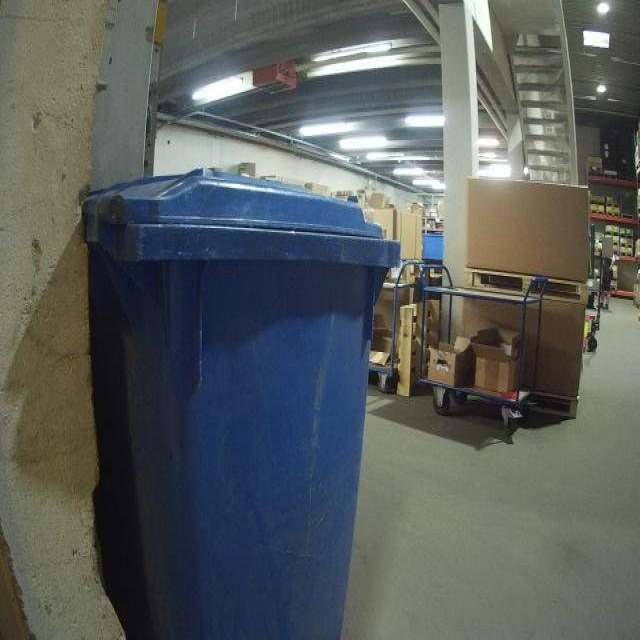pallet: (461, 267, 588, 305), (397, 300, 434, 397), (524, 393, 580, 420), (604, 230, 619, 237), (606, 211, 620, 217), (620, 233, 634, 239), (605, 203, 620, 208), (619, 243, 634, 248), (591, 210, 605, 215), (591, 201, 604, 206), (620, 251, 632, 256), (593, 239, 604, 244), (606, 242, 618, 246)
small_load_carrier: (423, 231, 443, 260)
